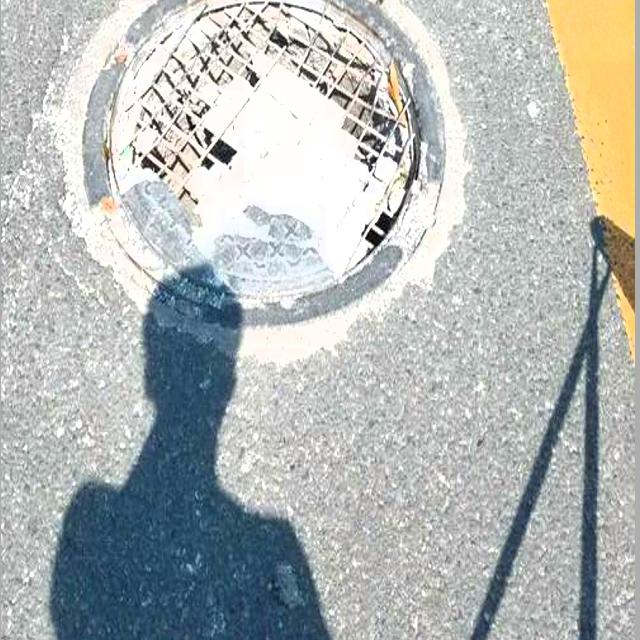broke: (66, 0, 468, 353)
